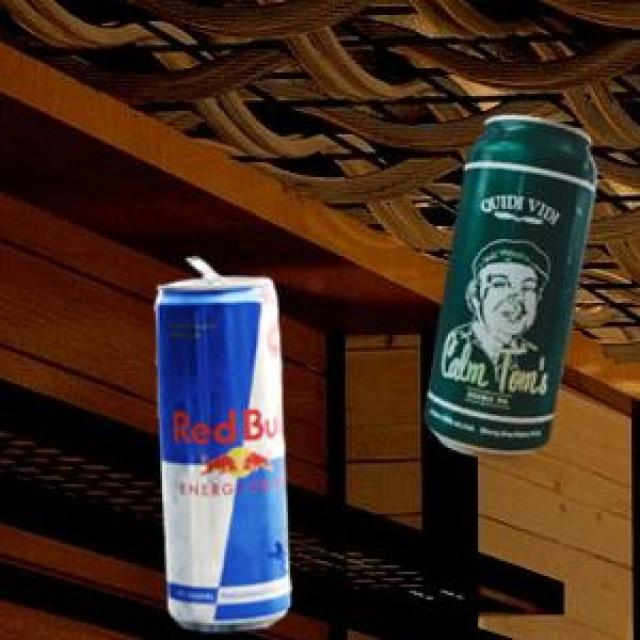logam: (421, 112, 594, 455), (153, 255, 287, 630)
